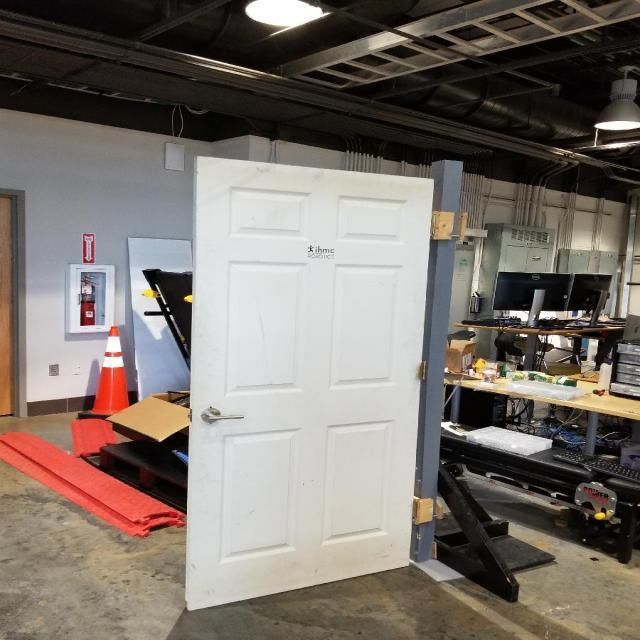door: (182, 154, 436, 614), (200, 406, 250, 429)
